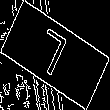L_SW: (34, 26, 76, 84)
